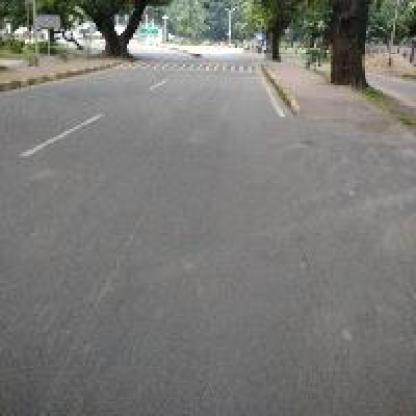Speed Bump: (108, 56, 258, 75)
